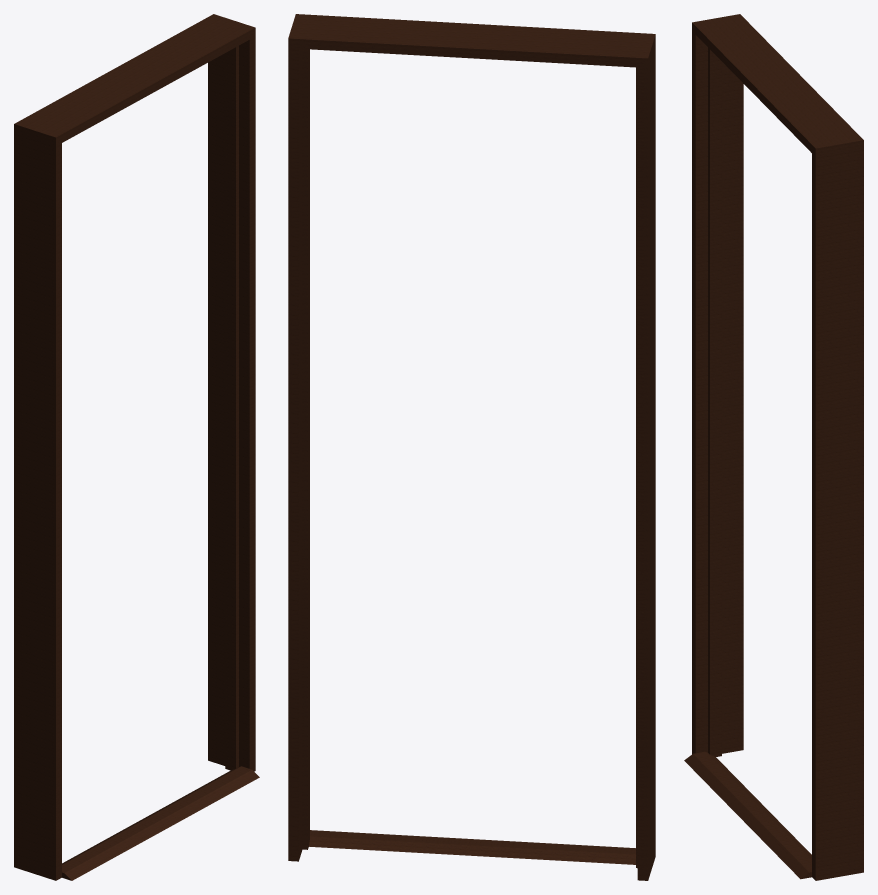
The model's file is RearDoorFrame_02.fbx.
The picture shows the model from 3 angles, left to right: view 1: azimuth 30°, elevation 25°; view 2: azimuth 150°, elevation 25°; view 3: azimuth 270°, elevation 25°; orthographic projection. The views are drawn at different scales.
Visible parts, largest first — view 1: DoorFrame_02; view 2: DoorFrame_02; view 3: DoorFrame_02.
Part boxes in pixels (box(x1,y1,x2,y2)): DoorFrame_02: box(14, 14, 259, 880); DoorFrame_02: box(288, 14, 655, 880); DoorFrame_02: box(684, 14, 863, 880).
Size of the model in its own units: 32.98 by 18.62 by 83.66.
1 material, 1 textured.
